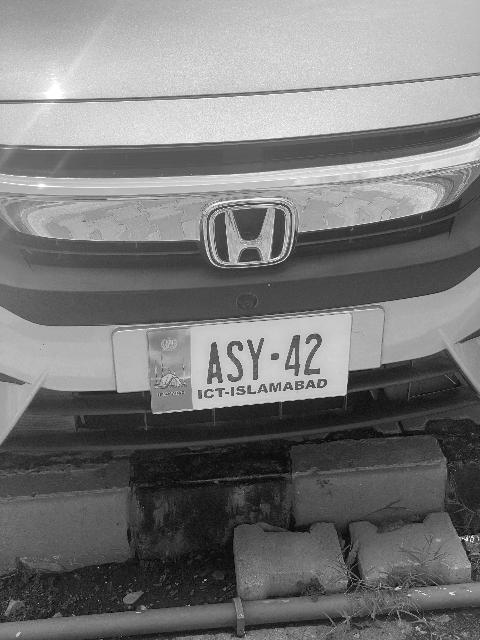Number: (202, 327, 325, 388)
